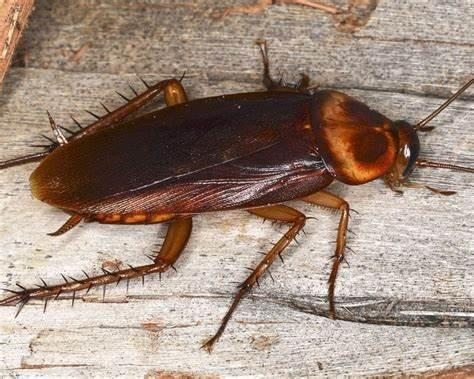cockroach: (11, 71, 450, 281)
